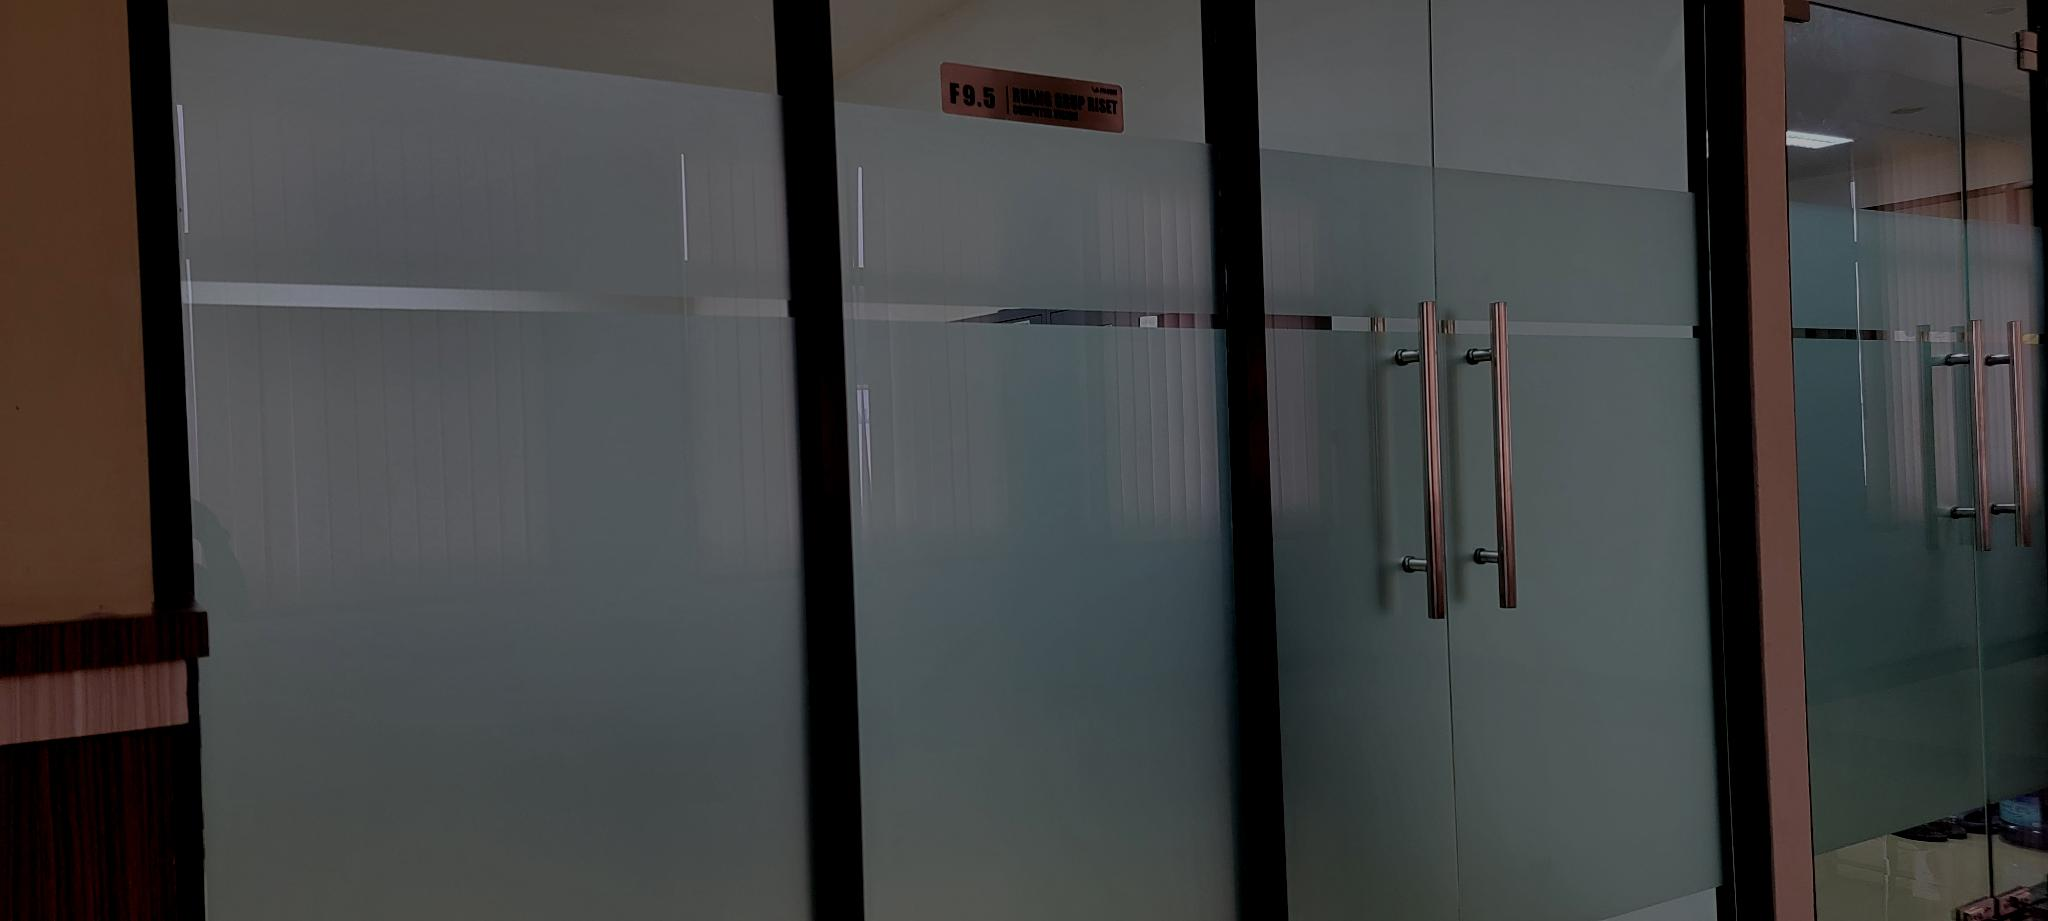plate: (940, 60, 1125, 135)
